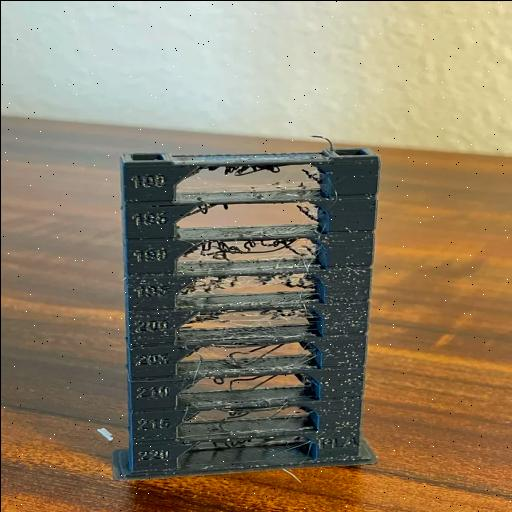stringing: (189, 244, 312, 260), (206, 275, 293, 293), (209, 310, 297, 321)
